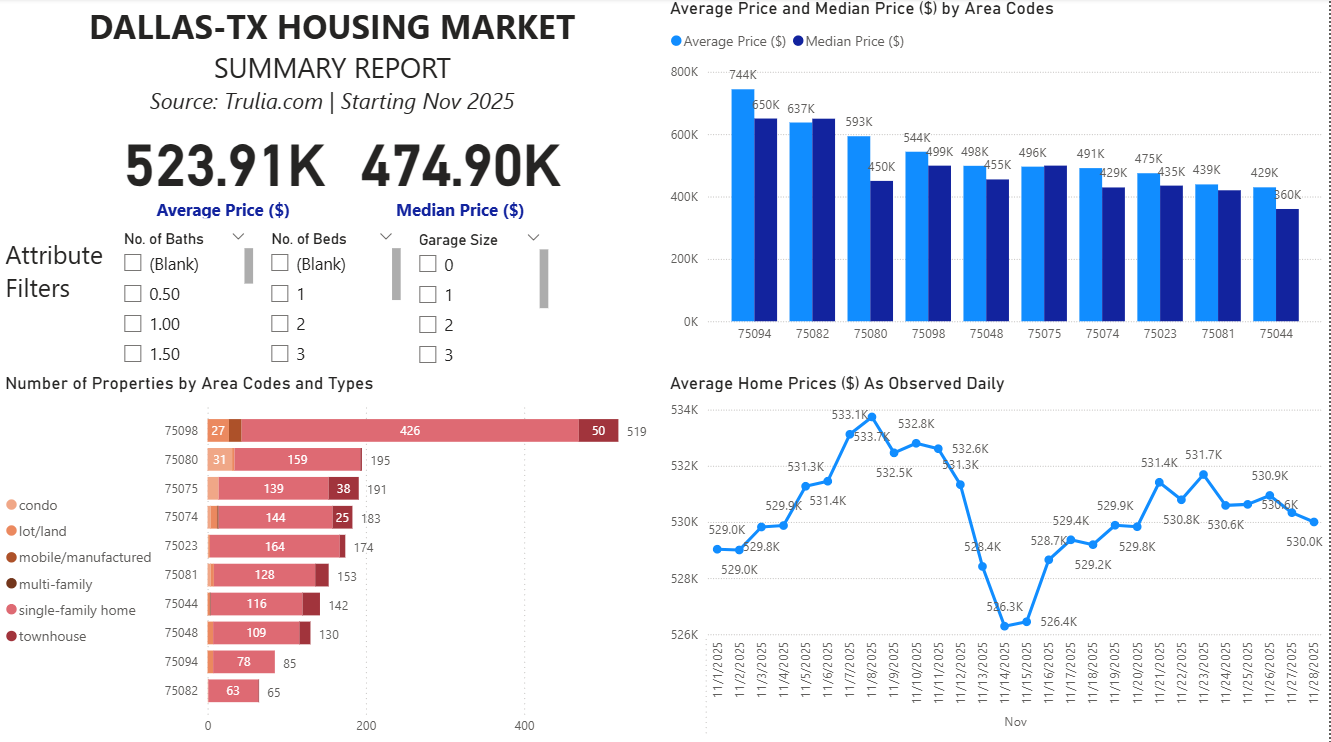

The page's visual inventory and layout, read from the dashboard file:
{"tool":"powerbi","page":{"name":"Market Report","canvas":[1280,720],"ordinal":0},"visuals":[{"type":"clusteredColumnChart","title":"Average Price and Median Price ($) by Area Codes","fields":{"Category":["dim_property.zip"],"Y":["fact_latest_listing.Average Price ($)","fact_latest_listing.Median Price ($)"]},"box":[640.3,0,639,342.6],"z":0},{"type":"barChart","title":"Number of Properties by Area Codes and Types","fields":{"Category":["dim_property.zip"],"Y":["fact_latest_listing.Property Count"],"Series":["dim_property.property_type"]},"box":[0,360.6,640.3,359.3],"z":1000},{"type":"textbox","box":[0,0,640.3,118.1],"z":2000},{"type":"lineChart","title":"Average Home Prices ($) As Observed Daily","fields":{"Category":["dim_date.month","dim_date.Date"],"Y":["fact_listing.Observed Average Price ($)"]},"box":[640.3,360.6,639,359.3],"z":3000},{"type":"card","fields":{"Values":["fact_latest_listing.Average Price ($)"]},"box":[110,112,210.4,105.2],"z":4000},{"type":"card","fields":{"Values":["fact_latest_listing.Median Price ($)"]},"box":[320.8,111.6,246.4,106.5],"z":5000},{"type":"slicer","fields":{"Values":["dim_property.bath_count"]},"box":[106.5,218.1,142.4,142.4],"z":6000},{"type":"slicer","fields":{"Values":["dim_property.bed_count"]},"box":[248.9,218.1,142.4,142.4],"z":7000},{"type":"slicer","fields":{"Values":["dim_property.garage_parking_count"]},"box":[391.4,219.4,142.4,142.4],"z":8000},{"type":"textbox","box":[0,225.8,106.5,128.3],"z":9000}]}

Visuals, with their boxes in screenshot pixels (x1, y1, x2, y2), scaled from the page's 1280x720 canvas onto the 1331x742 screenshot:
"Average Price and Median Price ($) by Area Codes" clusteredColumnChart: <bbox>666, 0, 1330, 353</bbox>
"Number of Properties by Area Codes and Types" barChart: <bbox>0, 372, 666, 741</bbox>
textbox: <bbox>0, 0, 666, 122</bbox>
"Average Home Prices ($) As Observed Daily" lineChart: <bbox>666, 372, 1330, 741</bbox>
card - fact_latest_listing.Average Price ($): <bbox>114, 115, 333, 224</bbox>
card - fact_latest_listing.Median Price ($): <bbox>334, 115, 590, 225</bbox>
slicer - dim_property.bath_count: <bbox>111, 225, 259, 372</bbox>
slicer - dim_property.bed_count: <bbox>259, 225, 407, 372</bbox>
slicer - dim_property.garage_parking_count: <bbox>407, 226, 555, 373</bbox>
textbox: <bbox>0, 233, 111, 365</bbox>
